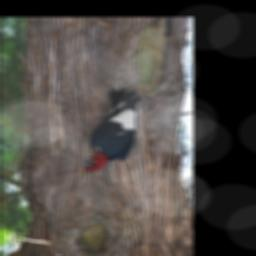Woodpecker: (77, 87, 147, 176)
